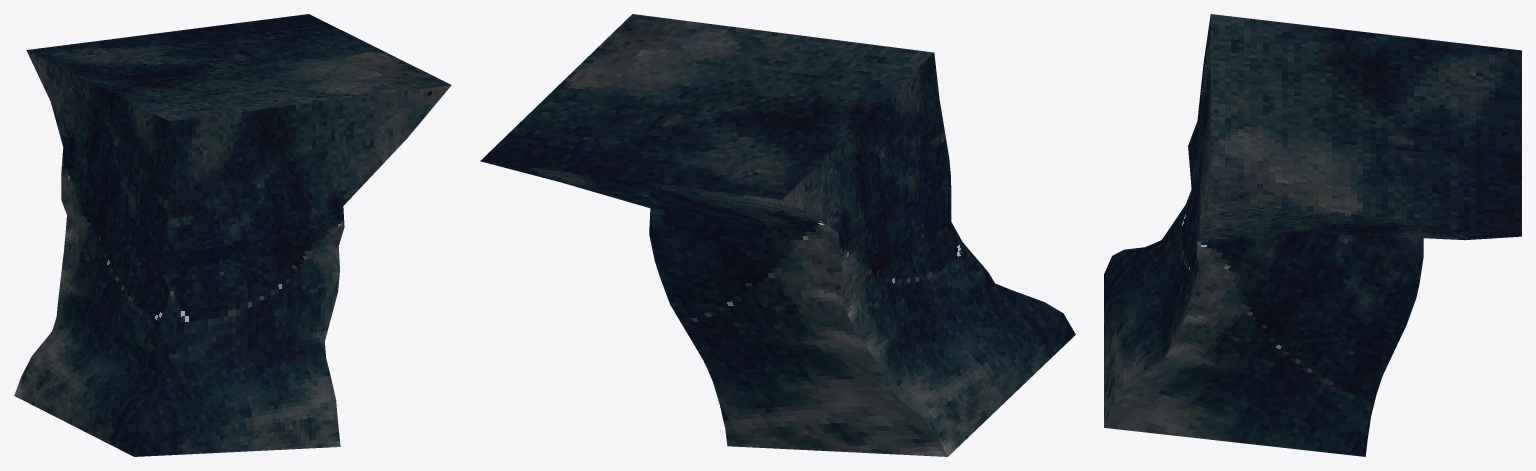
The picture shows the model from 3 angles, left to right: view 1: azimuth 30°, elevation 25°; view 2: azimuth 150°, elevation 25°; view 3: azimuth 270°, elevation 25°; orthographic projection. The views are drawn at different scales.
Parts seen in each view (by area): view 1: SPLICE_1; view 2: SPLICE_1; view 3: SPLICE_1.
Part boxes in pixels (x1,y1,x2,y2): SPLICE_1: (14,14,451,456); SPLICE_1: (480,14,1075,456); SPLICE_1: (1104,14,1521,456).
Bounding box in the file's own units: 1.54 × 1.39 × 1.39.
1 material, 1 textured.
